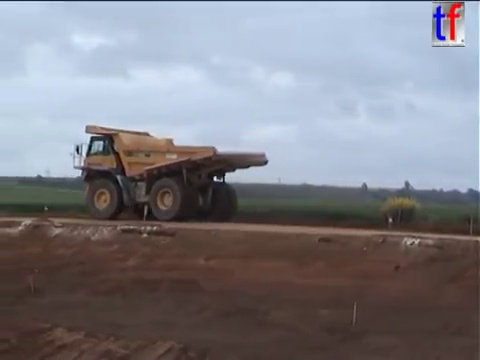truck: (70, 123, 271, 222)
